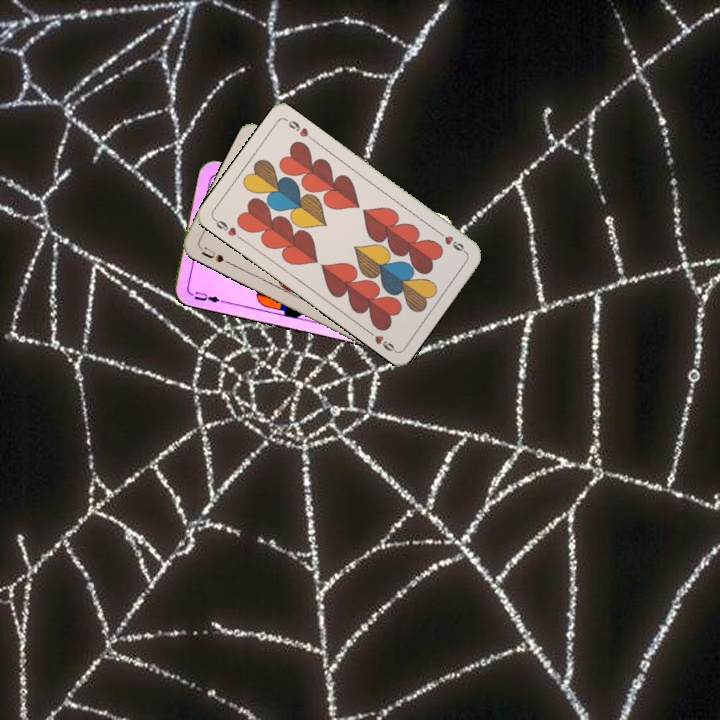EU: (185, 287, 225, 305)
H9: (434, 227, 469, 256), (210, 215, 245, 243)
SU: (198, 243, 233, 267)
